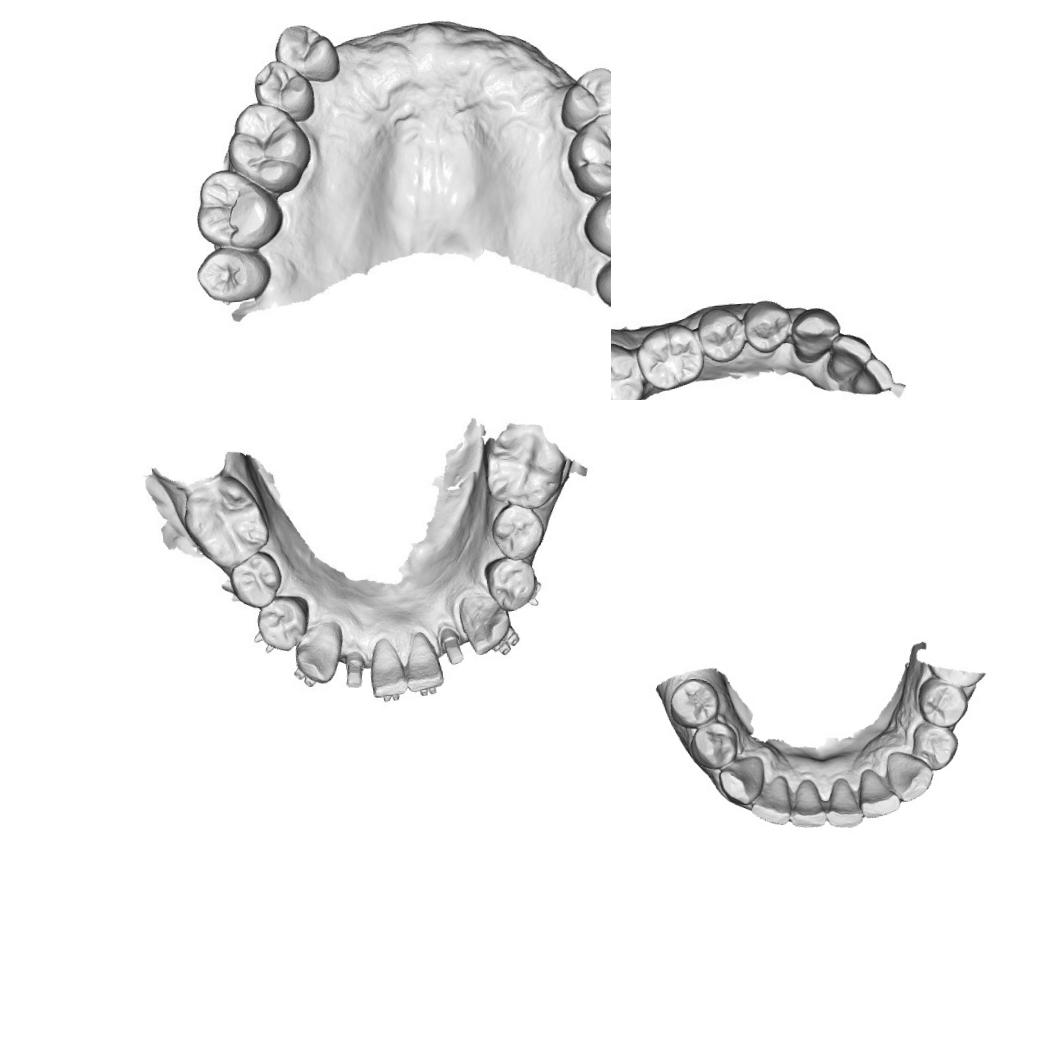abutment: (339, 647, 366, 697), (440, 626, 466, 672)
canine: (454, 587, 517, 662), (786, 302, 842, 364), (290, 624, 342, 688), (882, 746, 936, 804), (716, 752, 768, 808)
incisor: (821, 330, 873, 384), (745, 772, 794, 828), (844, 352, 902, 398), (368, 632, 408, 698), (820, 773, 866, 830), (855, 764, 901, 820), (402, 630, 442, 688), (786, 774, 826, 830)
molar: (178, 472, 272, 574), (190, 162, 288, 252), (476, 418, 569, 506), (227, 101, 315, 192), (633, 318, 708, 392), (194, 244, 274, 308), (562, 106, 611, 189), (579, 183, 611, 257), (611, 338, 645, 400), (591, 253, 611, 316)
premolar: (250, 60, 318, 126), (273, 22, 340, 86), (226, 546, 287, 610), (252, 592, 312, 656), (739, 295, 798, 358), (555, 67, 611, 130), (695, 302, 750, 364), (479, 552, 539, 608), (664, 674, 722, 731), (914, 673, 970, 730), (684, 718, 741, 772), (489, 505, 547, 557), (909, 719, 962, 773)
